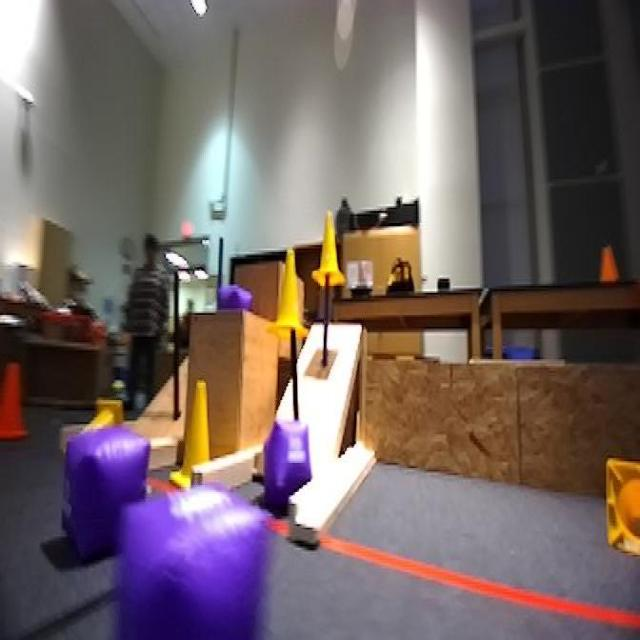frc_cone: (168, 371, 223, 494), (605, 458, 640, 560), (272, 243, 306, 339), (75, 403, 114, 453), (317, 216, 340, 291)
frc_cube: (92, 475, 288, 640), (56, 431, 136, 558), (259, 419, 311, 512), (213, 288, 241, 315)
